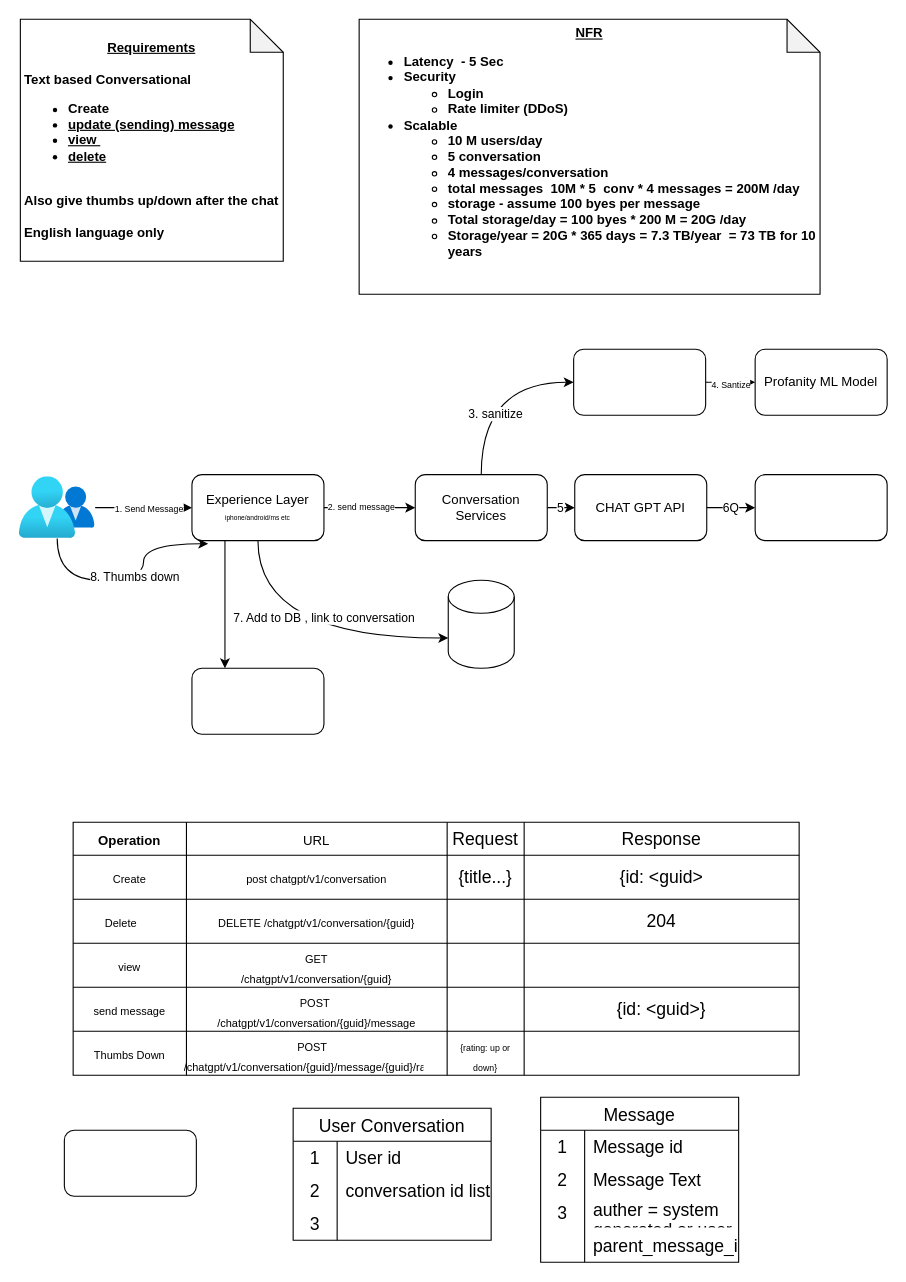
Some shapes in this 906 by 1282 pixel diagram are drawn without their labels. Here are the shapes that lost their labels. From the top down, the centre of each, then its label:
the point at 639,381: Profanity API (check insult, threat)
the point at 820,507: CHAT GPT Model
the point at 257,700: 9. Kafka store thumbs down response to train ChatGPT model
the point at 129,1162: No SQL DB
